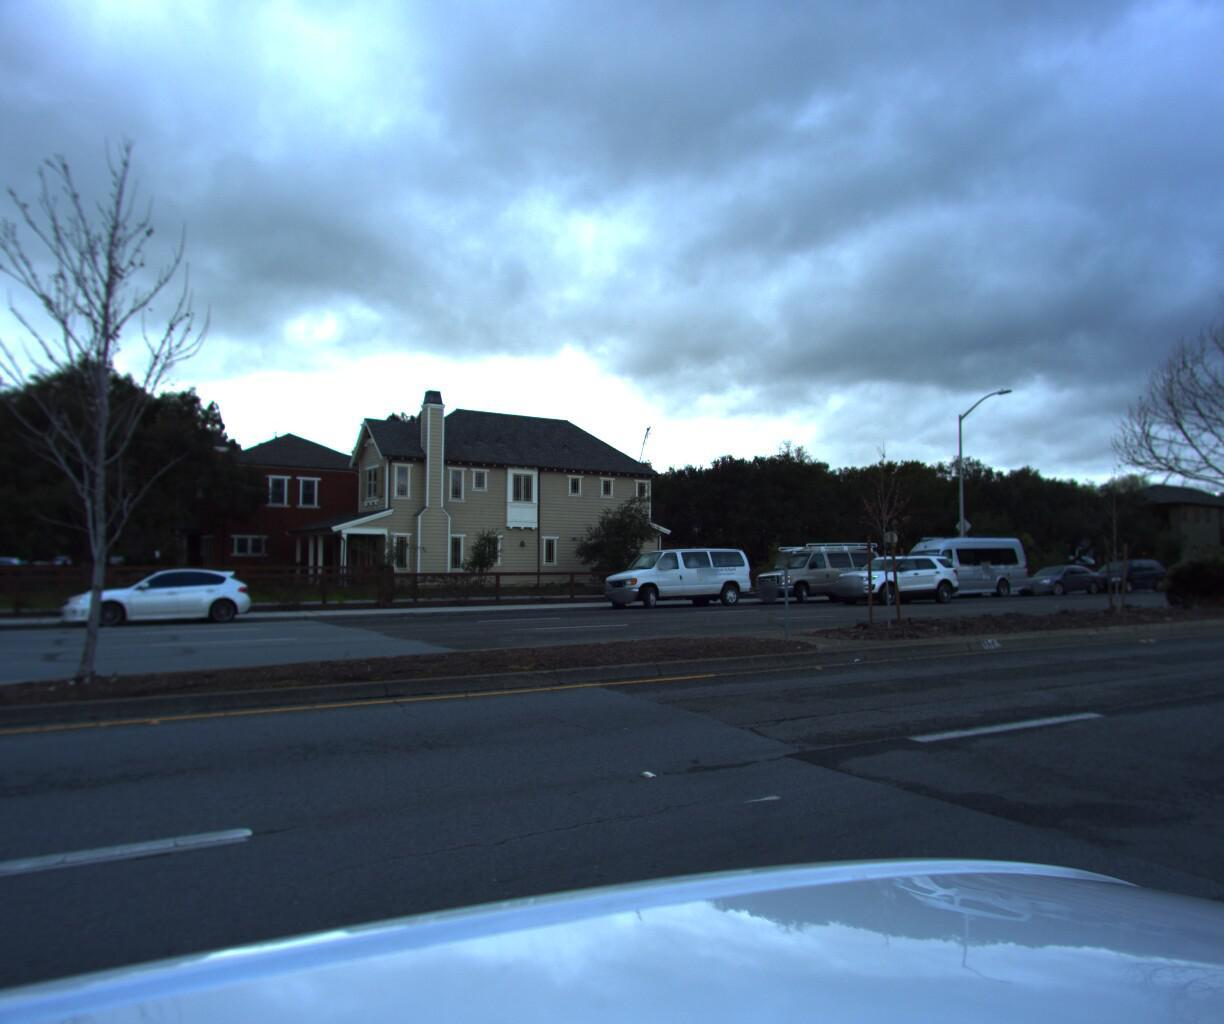car: (58, 566, 264, 633), (876, 526, 1034, 600), (593, 542, 756, 608), (744, 535, 892, 603), (824, 554, 964, 609), (1072, 553, 1171, 590), (1008, 559, 1106, 593), (0, 552, 4, 646)
